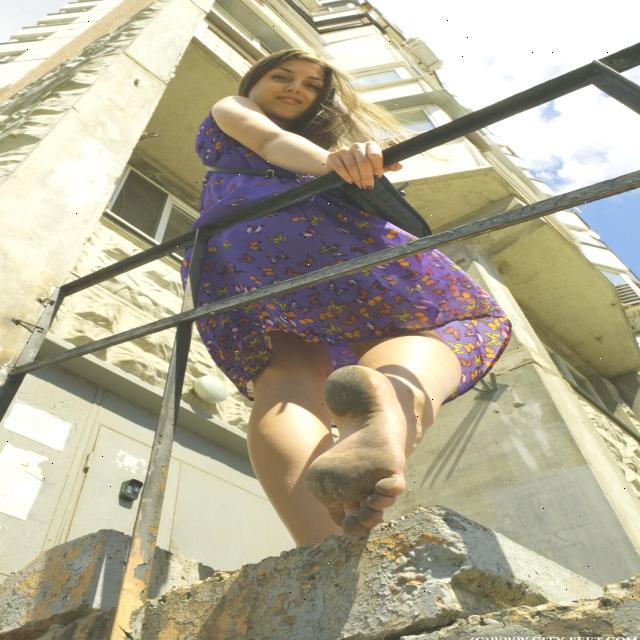No Safety Boots: (304, 365, 407, 536)
